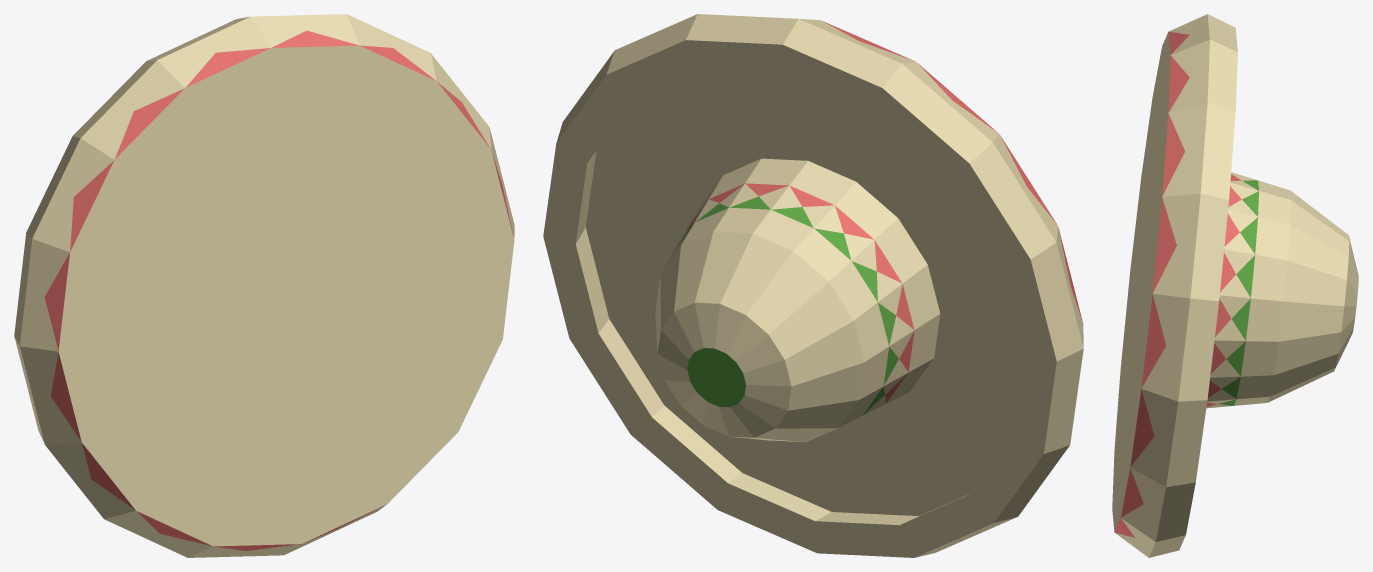
Rendered from SombreroHat.fbx.
3 views of the same model, side by side, from view 1: azimuth 30°, elevation 25°; view 2: azimuth 150°, elevation 25°; view 3: azimuth 270°, elevation 25° (orthographic). The views are drawn at different scales.
Visible parts, largest first — view 1: Circle.003; view 2: Circle.003; view 3: Circle.003.
Boxes of the visible parts, box(x1,y1,x2,y2) form: Circle.003: box(14, 14, 514, 557); Circle.003: box(543, 14, 1083, 557); Circle.003: box(1112, 14, 1358, 557).
Size of the model in its own units: 135 by 134 by 60.69.
